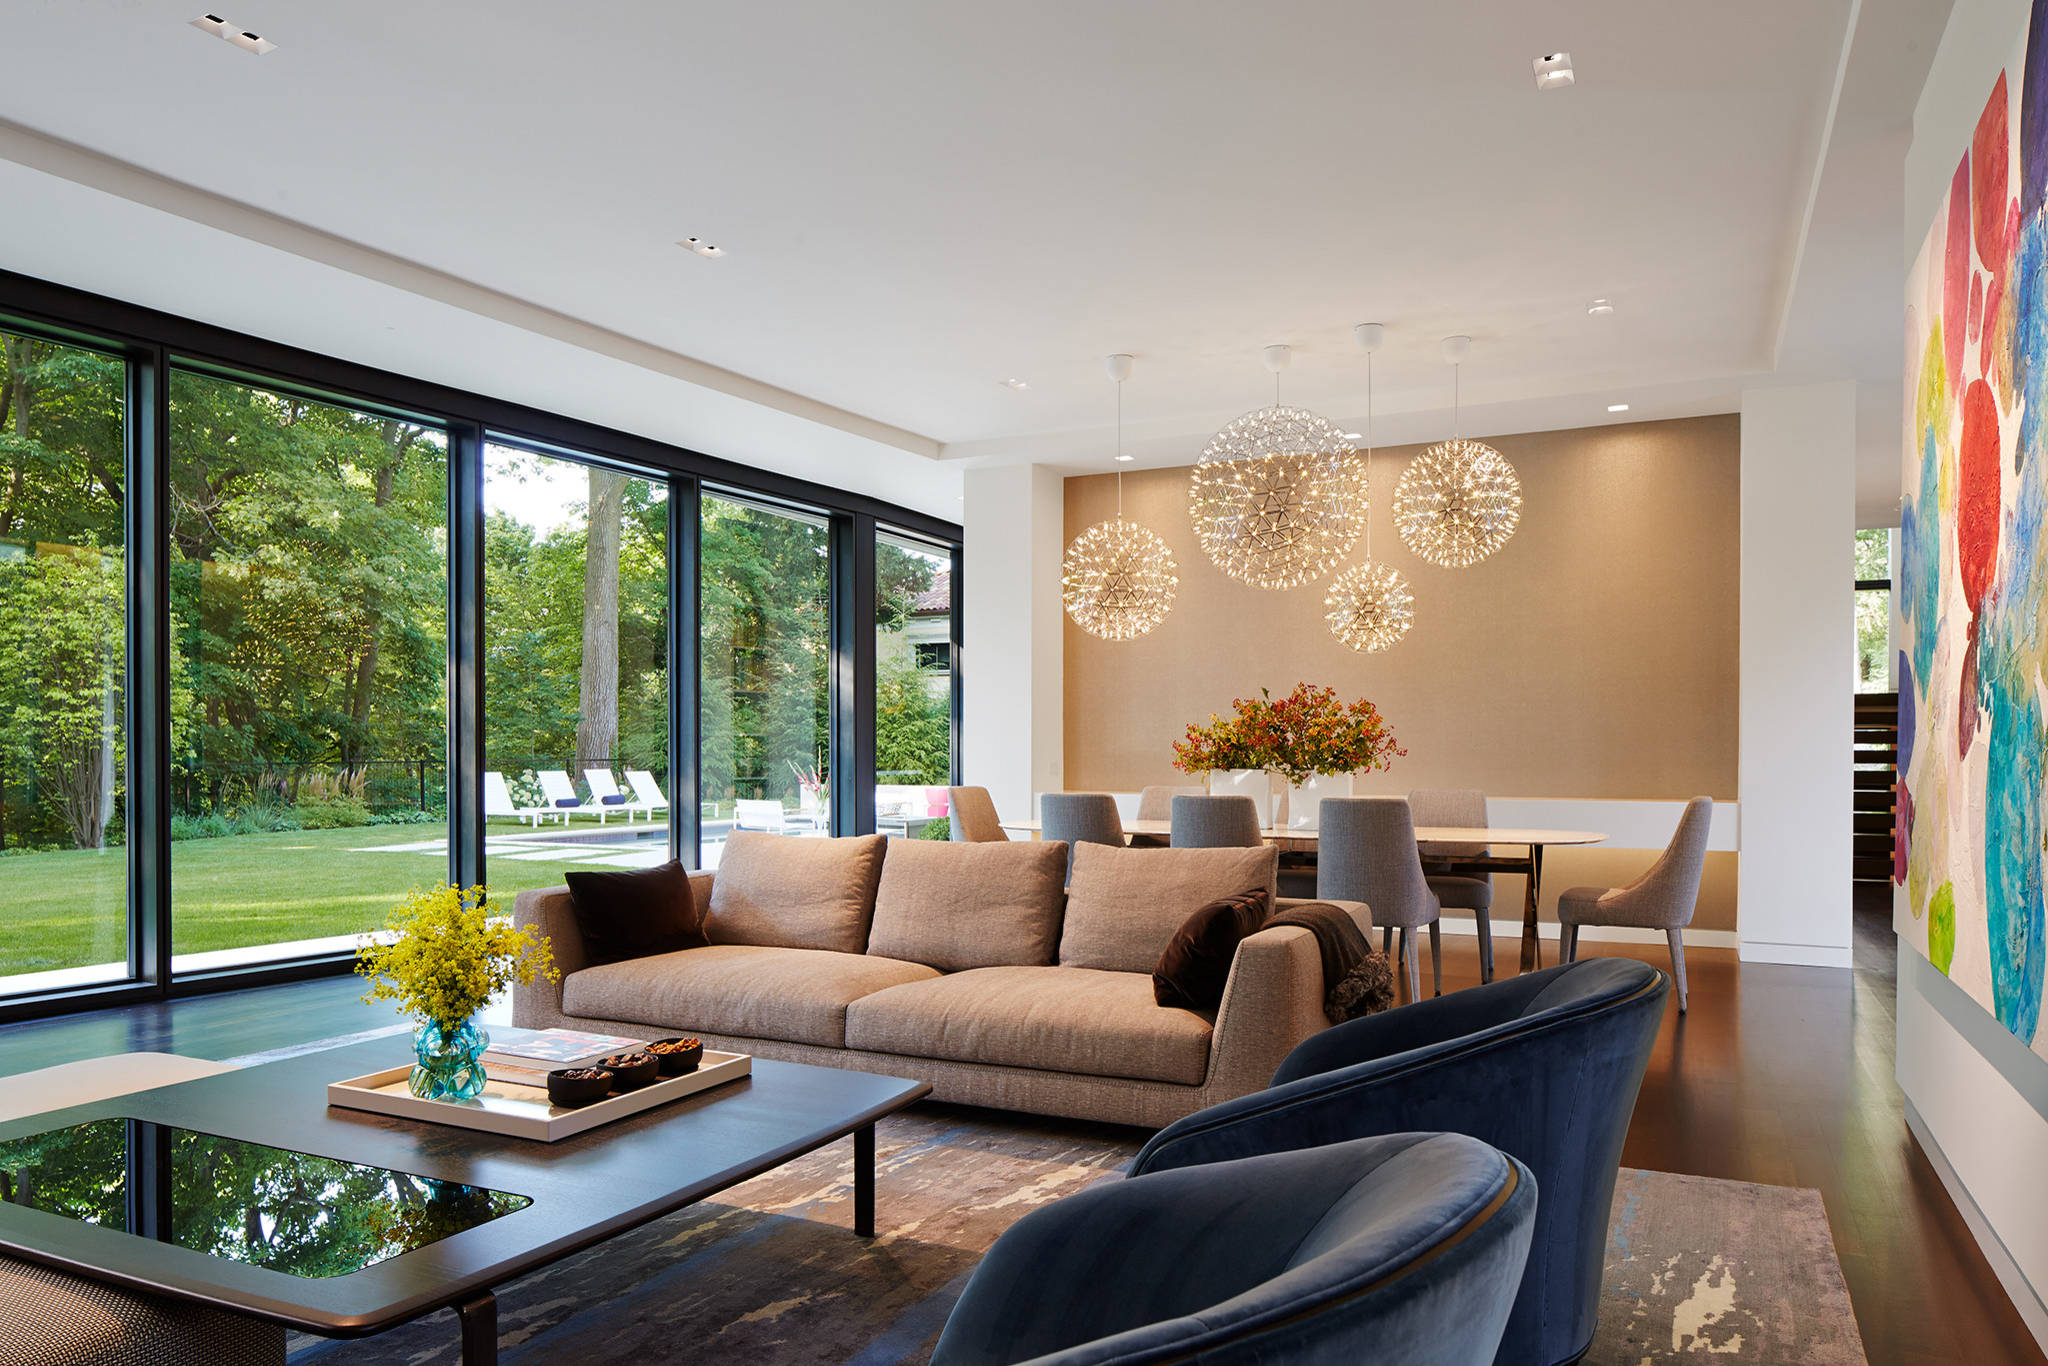chair: (1134, 951, 1672, 1363), (914, 1117, 1545, 1366)
dining table set: (923, 771, 1720, 1005)
flower vase: (363, 857, 567, 1110), (1167, 660, 1400, 829)
sofa: (510, 819, 1397, 1146)
table: (5, 1003, 939, 1360)
wall art: (1891, 5, 2045, 1072)
